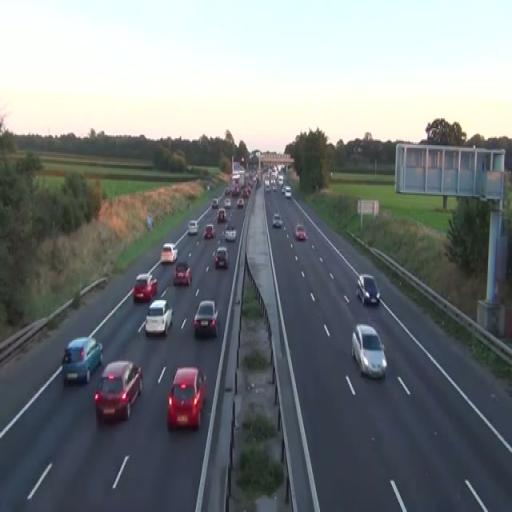Car: (94, 359, 144, 425), (166, 364, 208, 431), (62, 336, 103, 386), (352, 324, 386, 379), (192, 300, 219, 339), (145, 300, 173, 336), (356, 273, 380, 306), (133, 272, 158, 302), (173, 261, 192, 287), (213, 246, 230, 270), (160, 242, 178, 264), (294, 224, 308, 241), (224, 227, 237, 242), (204, 224, 216, 240), (273, 214, 282, 228)
